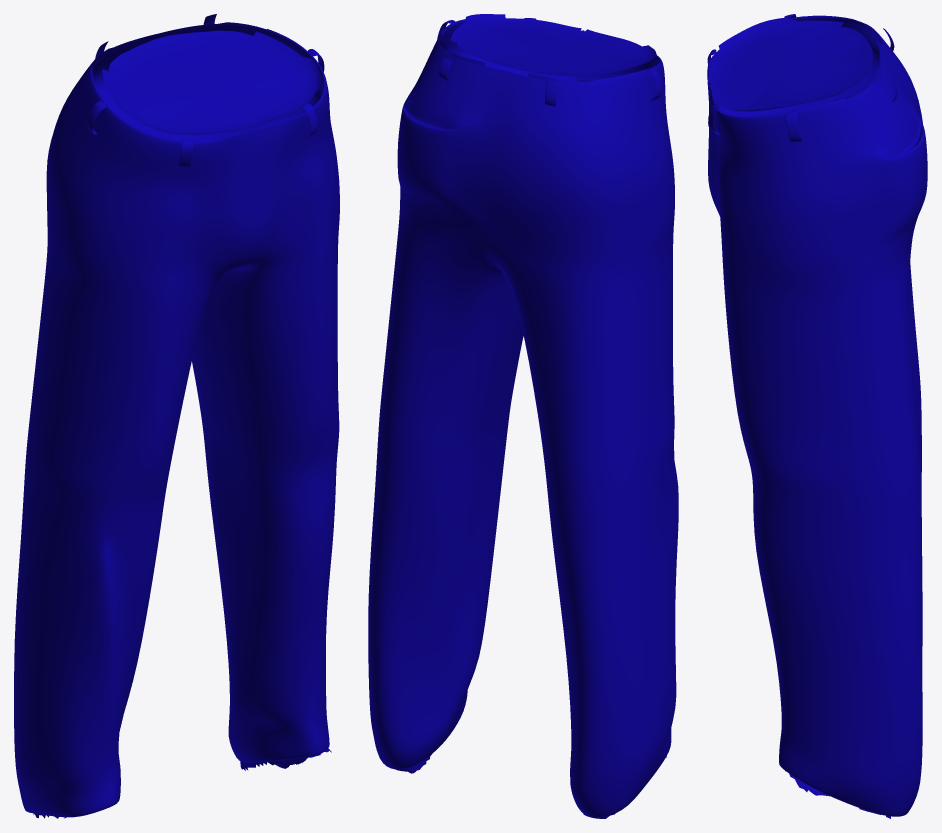
The model's file is mens bottom2.glb.
3 renders of one model, left to right at view 1: azimuth 30°, elevation 25°; view 2: azimuth 150°, elevation 25°; view 3: azimuth 270°, elevation 25°, orthographic. The views are drawn at different scales.
Visible parts, largest first — view 1: imagetostl_mesh0; view 2: imagetostl_mesh0; view 3: imagetostl_mesh0.
Part boxes in pixels (x1,y1,x2,y2): imagetostl_mesh0: [14, 14, 339, 818]; imagetostl_mesh0: [368, 14, 678, 818]; imagetostl_mesh0: [707, 14, 927, 818].
Bounding box in the file's own units: 0.6112 × 1.55 × 0.4318.
